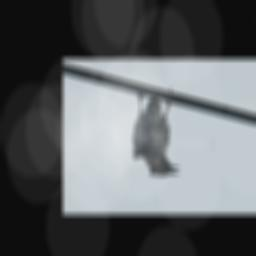Crow: (132, 86, 180, 179)
